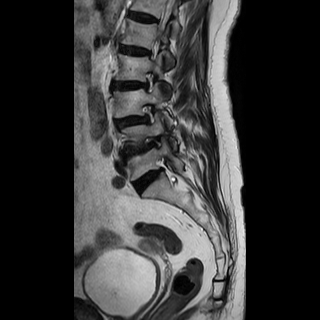LFS0: (135, 97, 163, 128), (139, 64, 161, 97)
LFS3: (137, 130, 165, 157)
